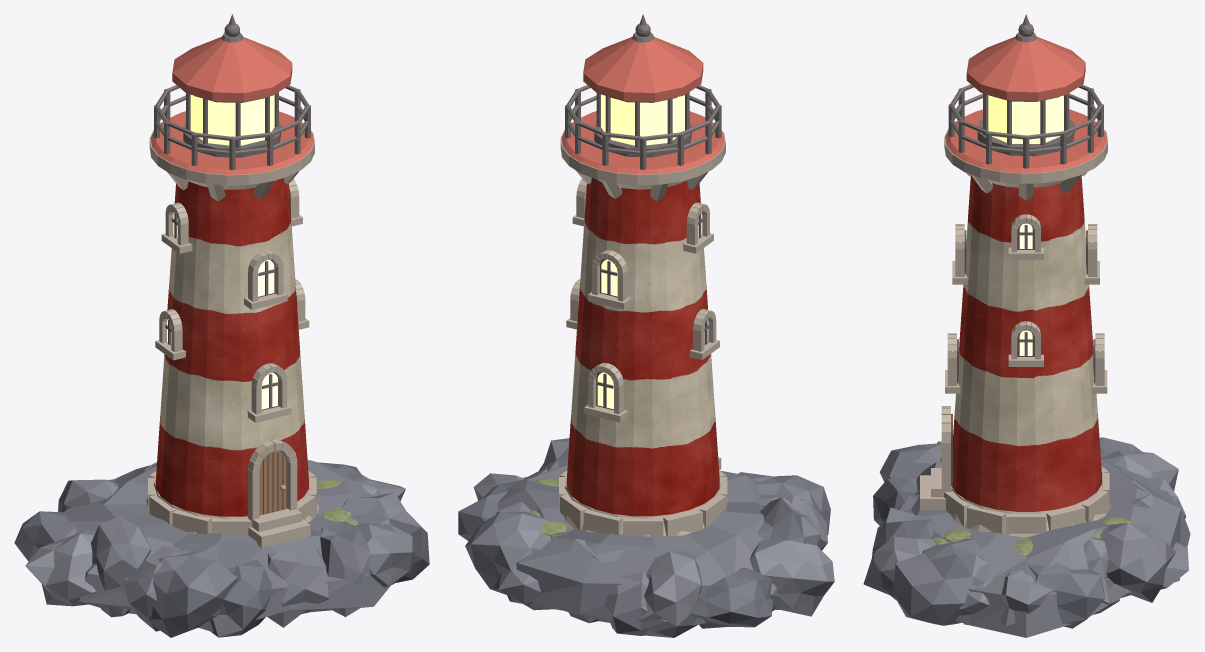
The model's file is faro-isla.glb.
3 views of the same model, side by side, from view 1: azimuth 30°, elevation 25°; view 2: azimuth 150°, elevation 25°; view 3: azimuth 270°, elevation 25° (orthographic).
Parts seen in each view (by area): view 1: rock colors, Tower - painted stripes, Stone - sandstone, Roof - vermilion, Iron - graphite, Glass - warm honey, Wood - oak, Light - amber, Recess - shadow; view 2: rock colors, Tower - painted stripes, Stone - sandstone, Roof - vermilion, Iron - graphite, Glass - warm honey, Light - amber; view 3: Tower - painted stripes, rock colors, Stone - sandstone, Roof - vermilion, Iron - graphite, Glass - warm honey, Recess - shadow, moss colors, Light - amber.
Part boxes in pixels (bbox=[...]): rock colors: bbox=[14, 460, 429, 637]; Tower - painted stripes: bbox=[155, 178, 308, 516]; Stone - sandstone: bbox=[146, 114, 319, 547]; Roof - vermilion: bbox=[150, 36, 313, 174]; Iron - graphite: bbox=[154, 14, 310, 408]; Glass - warm honey: bbox=[190, 95, 274, 145]; Wood - oak: bbox=[259, 450, 286, 515]; Light - amber: bbox=[167, 212, 277, 409]; Recess - shadow: bbox=[167, 212, 287, 514]; rock colors: bbox=[458, 437, 834, 637]; Tower - painted stripes: bbox=[566, 178, 719, 516]; Stone - sandstone: bbox=[558, 114, 728, 536]; Roof - vermilion: bbox=[561, 37, 724, 174]; Iron - graphite: bbox=[565, 14, 721, 408]; Glass - warm honey: bbox=[601, 94, 684, 145]; Light - amber: bbox=[597, 212, 708, 409]; Tower - painted stripes: bbox=[952, 175, 1101, 511]; rock colors: bbox=[863, 437, 1190, 637]; Stone - sandstone: bbox=[920, 114, 1110, 537]; Roof - vermilion: bbox=[945, 36, 1106, 173]; Iron - graphite: bbox=[948, 14, 1103, 356]; Glass - warm honey: bbox=[988, 95, 1063, 143]; Recess - shadow: bbox=[947, 219, 1098, 486]; moss colors: bbox=[934, 516, 1132, 556]; Light - amber: bbox=[952, 223, 1100, 355].
Bounding box in the file's own units: 4.5 × 6.51 × 3.51.
Materials: 9 (1 with a texture image).
